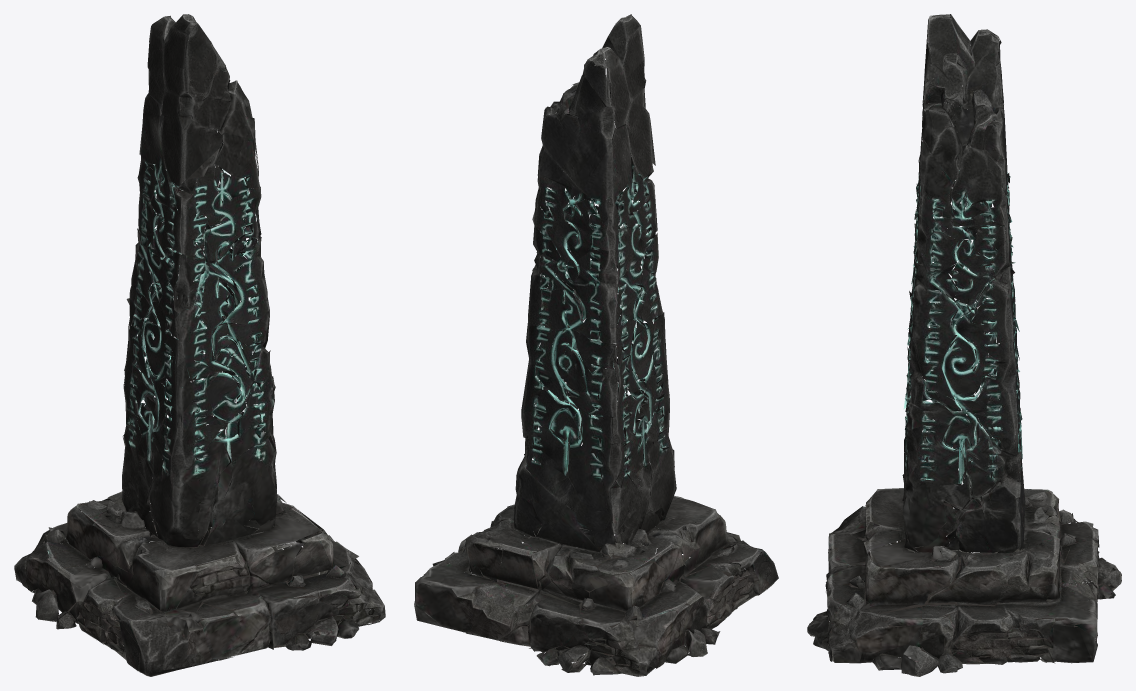
Rendered from mono.glb.
The picture shows the model from 3 angles, left to right: view 1: azimuth 30°, elevation 25°; view 2: azimuth 150°, elevation 25°; view 3: azimuth 270°, elevation 25°; orthographic projection. The views are drawn at different scales.
Visible parts, largest first — view 1: Mesh_0; view 2: Mesh_0; view 3: Mesh_0.
Boxes of the visible parts, left/top/right/bottom form: Mesh_0: left=14, top=14, right=385, bottom=676; Mesh_0: left=414, top=14, right=778, bottom=676; Mesh_0: left=807, top=14, right=1121, bottom=676.
Size of the model in its own units: 11.59 by 23.97 by 11.65.
Materials: 1 (1 with a texture image).
